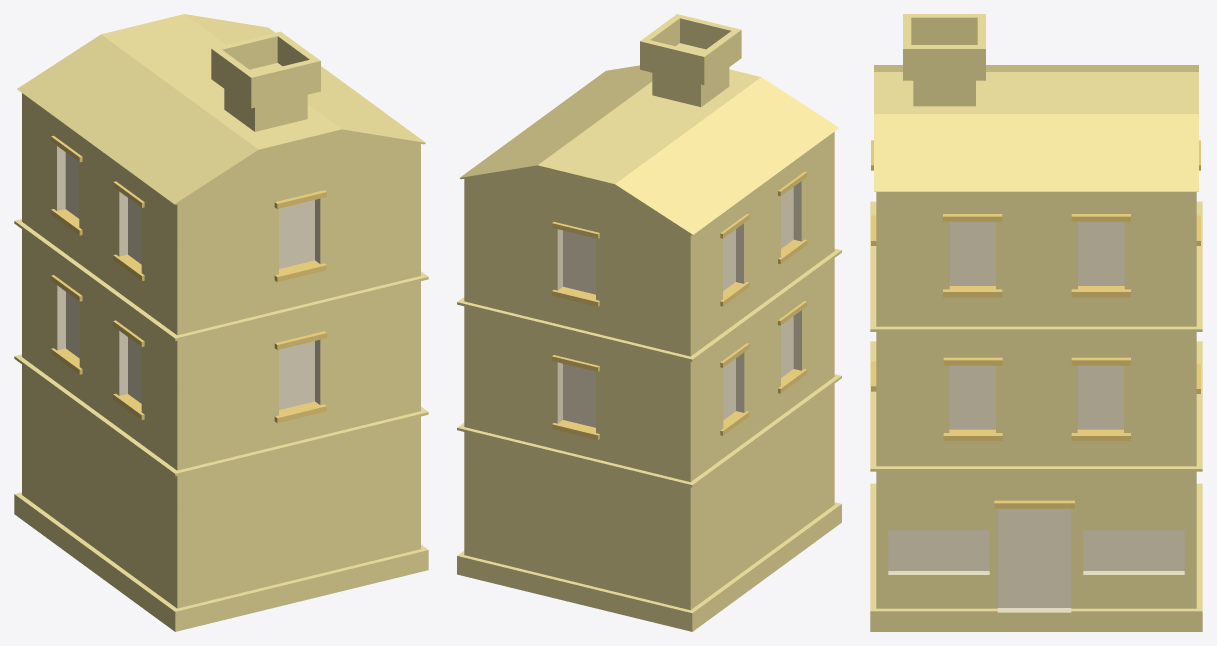
Rendered from Building.obj.
3 views of the same model, side by side, from view 1: azimuth 30°, elevation 25°; view 2: azimuth 150°, elevation 25°; view 3: azimuth 270°, elevation 25° (orthographic). The views are drawn at different scales.
Visible parts, largest first — view 1: Building_1, Chimeney_1, Null, Cube.5, Cube.4, Cube.9, Cube.7, Cube.6, Cube.8; view 2: Building_1, Chimeney_1, Null, Cube.11, Cube.10, Cube.6, Cube.9, Cube.8, Cube.7; view 3: Building_1, Cube_2, Chimeney_1, Null, Cube, Cube_1, Cube.2, Cube.1, Cube.3, Cube_3.
Part boxes in pixels (x1,y1,x2,y2): Building_1: [14, 14, 428, 631]; Chimeney_1: [211, 31, 320, 131]; Null: [51, 135, 326, 423]; Cube.5: [279, 340, 320, 409]; Cube.4: [279, 198, 320, 268]; Cube.9: [119, 191, 141, 264]; Cube.7: [119, 331, 141, 403]; Cube.6: [57, 285, 79, 358]; Cube.8: [57, 146, 79, 218]; Building_1: [457, 65, 841, 631]; Chimeney_1: [640, 14, 741, 106]; Null: [552, 171, 807, 439]; Cube.11: [557, 362, 595, 427]; Cube.10: [557, 229, 595, 294]; Cube.6: [723, 352, 744, 419]; Cube.9: [781, 181, 801, 248]; Cube.8: [723, 223, 743, 290]; Cube.7: [781, 310, 801, 377]; Building_1: [870, 65, 1202, 631]; Cube_2: [997, 508, 1071, 612]; Chimeney_1: [903, 14, 985, 106]; Null: [871, 140, 1200, 508]; Cube: [1083, 530, 1184, 574]; Cube_1: [888, 530, 989, 574]; Cube.2: [1078, 221, 1124, 285]; Cube.1: [949, 365, 995, 429]; Cube.3: [949, 221, 995, 285]; Cube_3: [1077, 365, 1123, 429].
Size of the model in its own units: 264 by 516 by 289.
